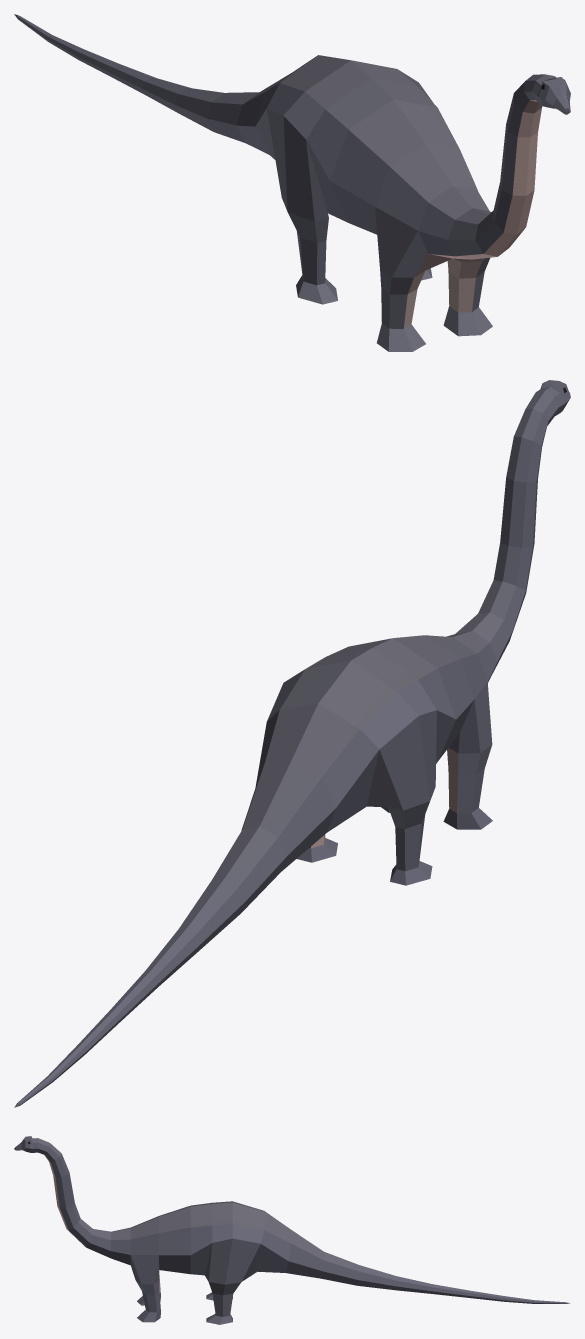
Rendered from 12n6ICAVpYB.glb.
The picture shows the model from 3 angles, top to bottom: view 1: azimuth 30°, elevation 25°; view 2: azimuth 150°, elevation 25°; view 3: azimuth 270°, elevation 25°; orthographic projection. The views are drawn at different scales.
Visible parts, largest first — view 1: Geo_Diplodocus; view 2: Geo_Diplodocus; view 3: Geo_Diplodocus.
Part boxes in pixels (x1=…): Geo_Diplodocus: x1=14, y1=14, x2=570, y2=351; Geo_Diplodocus: x1=14, y1=380, x2=570, y2=1107; Geo_Diplodocus: x1=14, y1=1136, x2=570, y2=1324.
Size of the model in its own units: 0.4356 by 1 by 2.94.
1 material, 1 textured.
